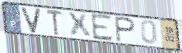0: (139, 20, 159, 46)
E: (90, 12, 115, 43)
P: (115, 15, 138, 44)
T: (45, 8, 64, 37)
V: (20, 6, 43, 35)
X: (65, 12, 93, 39)
